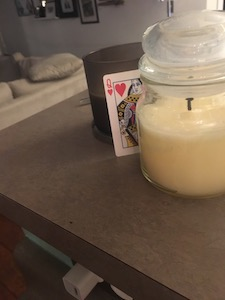QueenOfHearts: (101, 61, 145, 159)
